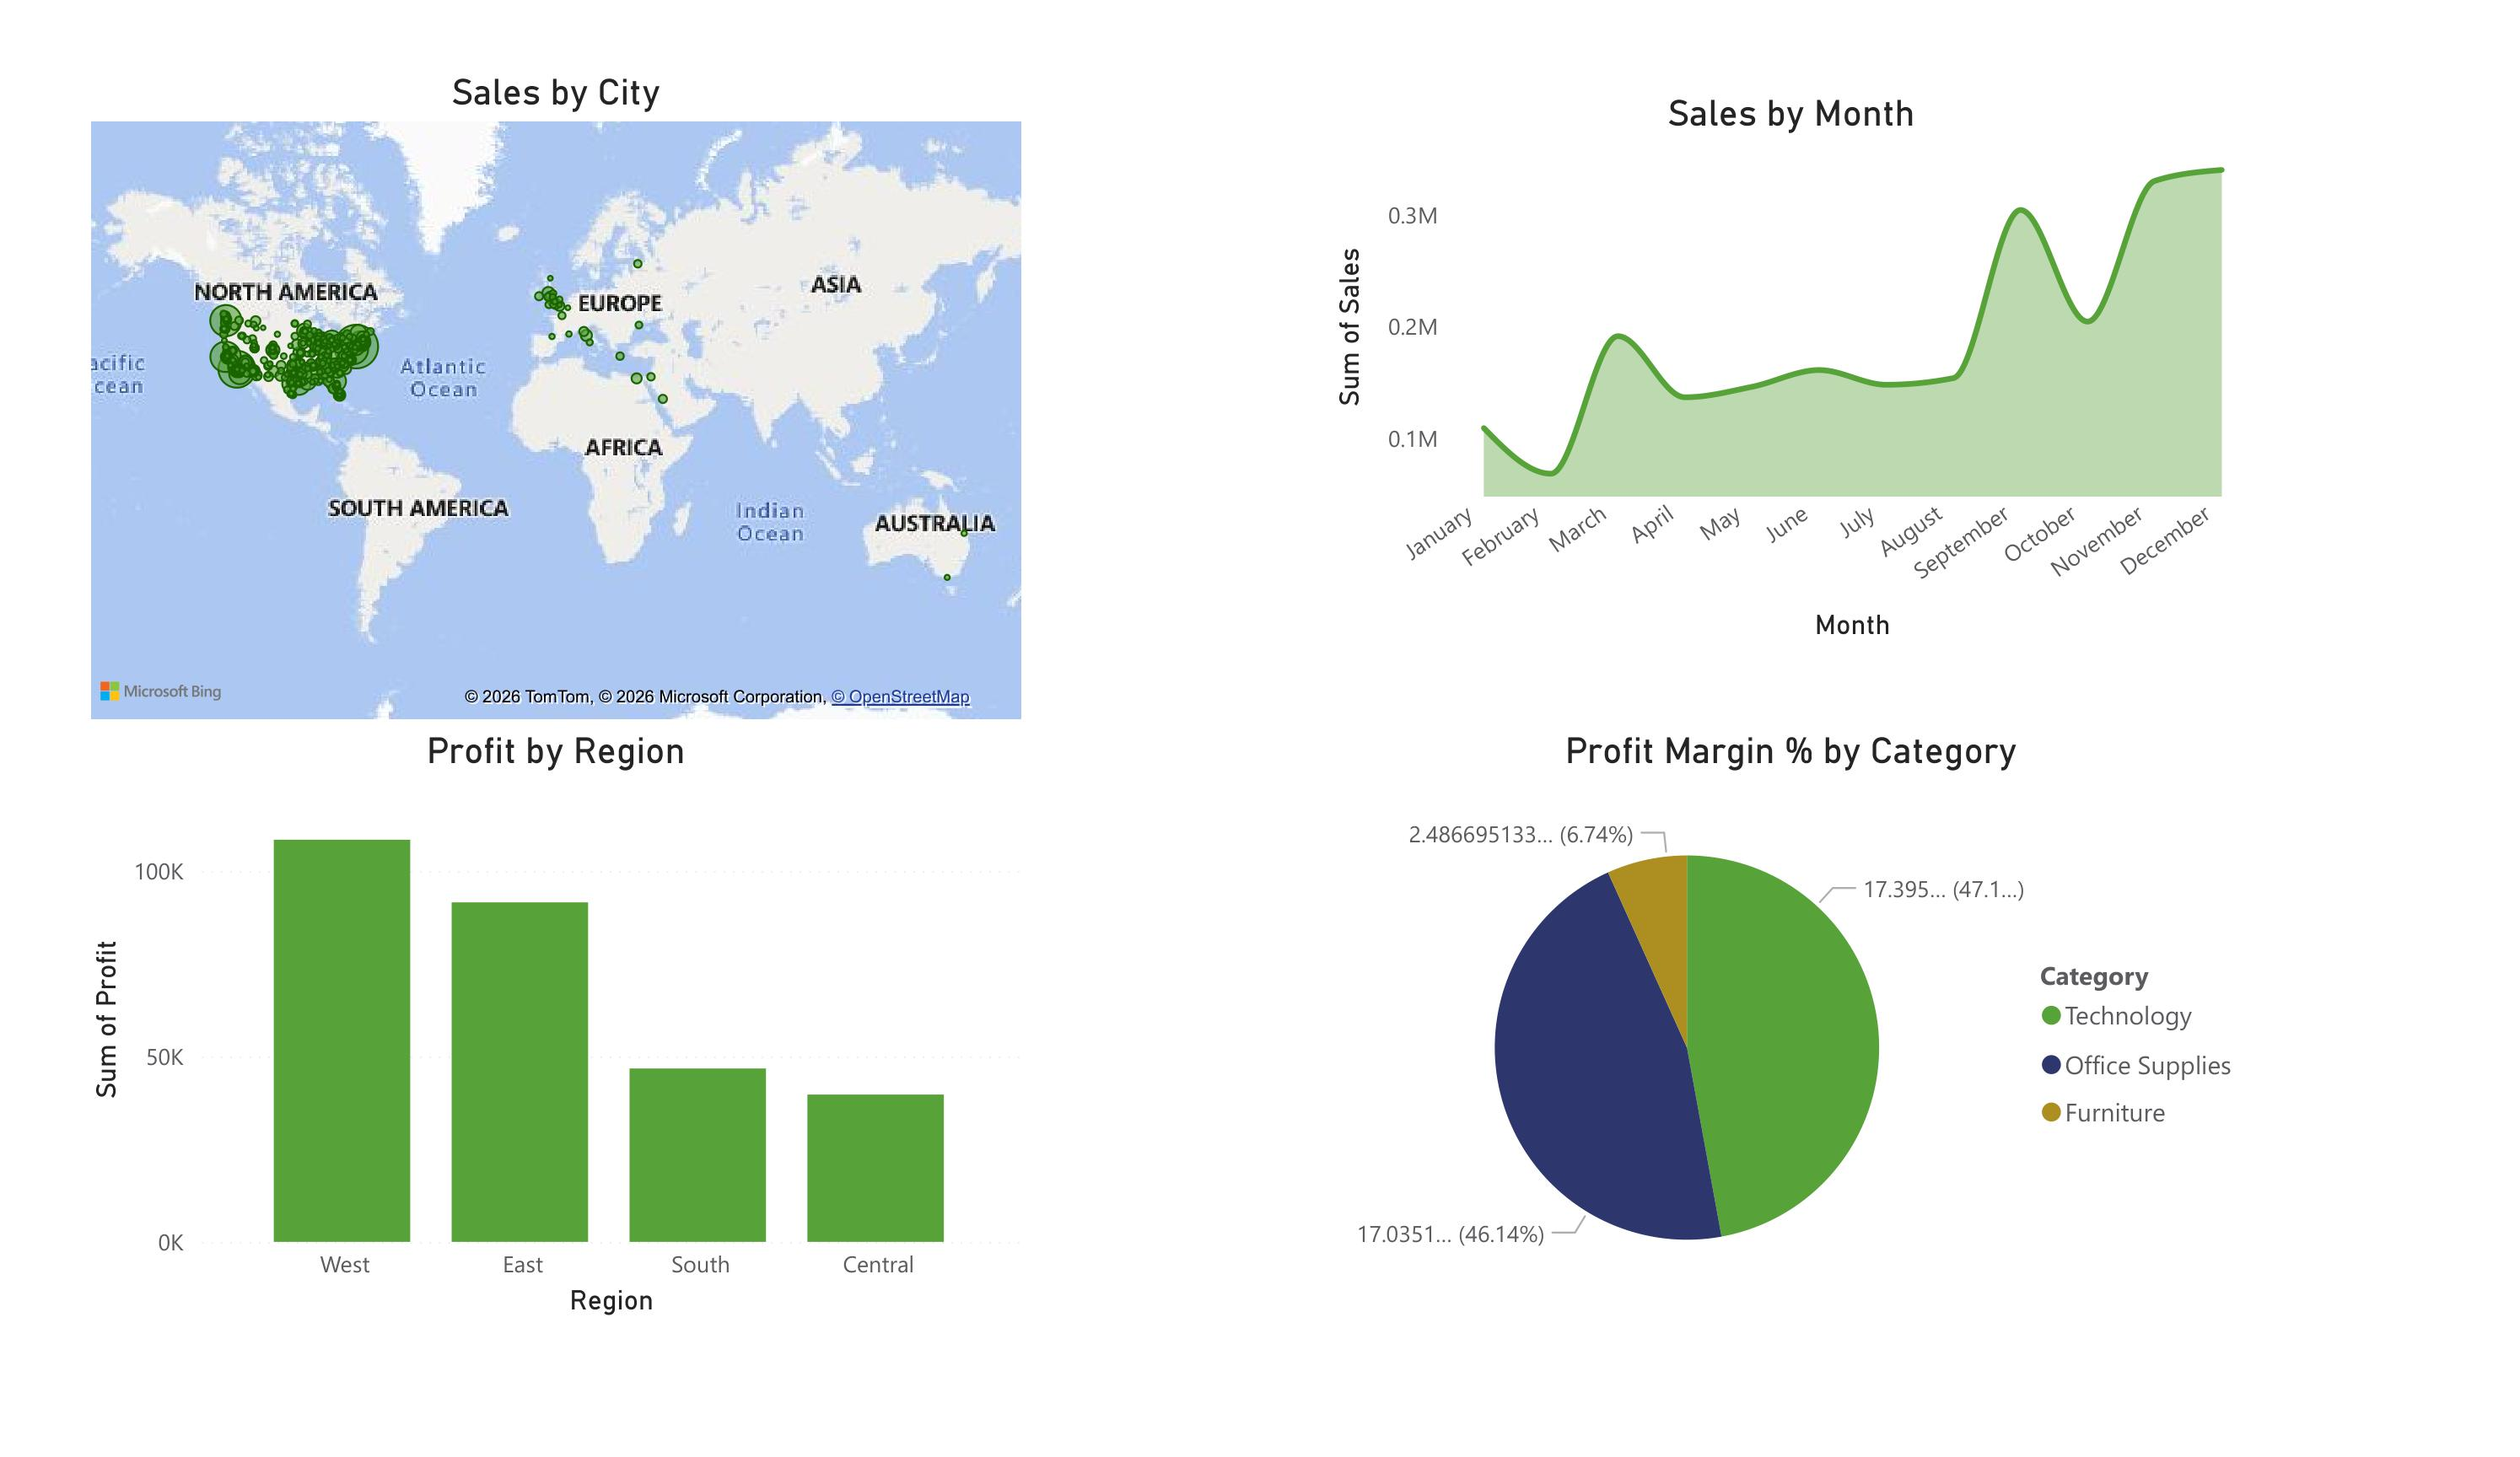

This screenshot's page, from the dashboard's own definition file:
{"tool":"powerbi","page":{"name":"Page 2","canvas":[1280,720],"ordinal":1},"visuals":[{"type":"map","title":"Sales by City","fields":{"Category":["sales1.City"],"Size":["Sum(sales1.Sales)"]},"box":[18.8,12.5,500,347.5],"z":0},{"type":"stackedAreaChart","title":"Sales by Month","fields":{"Category":["sales1.Ship Date.Variation.Date Hierarchy.Month"],"Y":["Sum(sales1.Sales)"]},"box":[673.8,23.8,492.5,293.8],"z":2000},{"type":"pieChart","fields":{"Category":["sales1.Category"],"Y":["sales1.Profit Margin %"]},"box":[673.8,360,492.5,313.8],"z":2001},{"type":"columnChart","title":"Profit by Region","fields":{"Category":["sales1.Region"],"Y":["Sum(sales1.Profit)"]},"box":[18.8,360,500,313.8],"z":2002}]}

Visuals, with their boxes in screenshot pixels (x1, y1, x2, y2), scaled from the page's 1280x720 canvas onto the 2520x1457 screenshot:
"Sales by City" map: x1=37 y1=25 x2=1021 y2=728
"Sales by Month" stackedAreaChart: x1=1327 y1=48 x2=2297 y2=642
pieChart - sales1.Category x sales1.Profit Margin %: x1=1327 y1=728 x2=2297 y2=1363
"Profit by Region" columnChart: x1=37 y1=728 x2=1021 y2=1363
